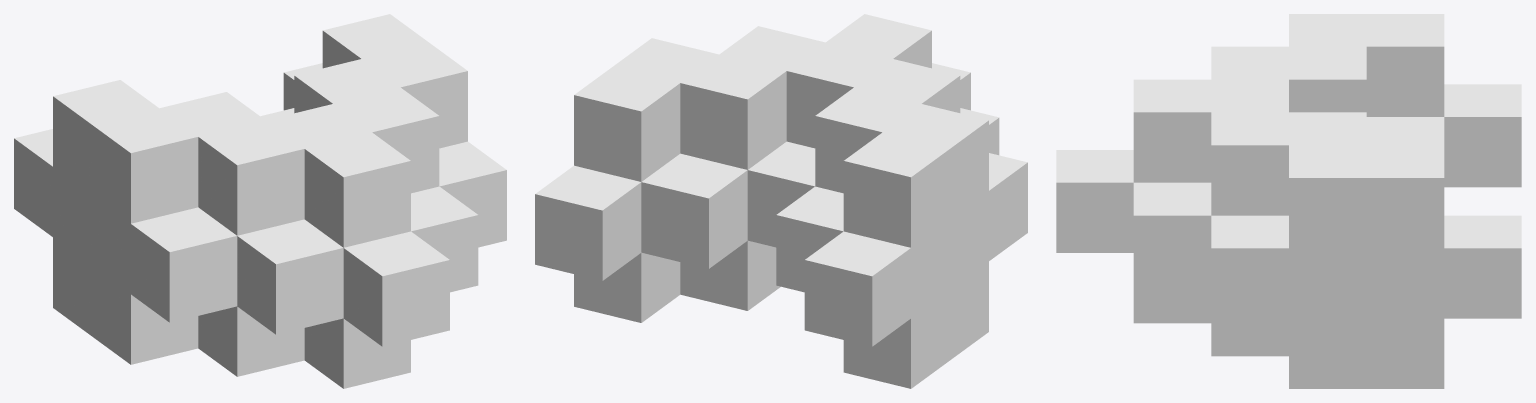
The model's file is ship.obj.
3 renders of one model, left to right at view 1: azimuth 30°, elevation 25°; view 2: azimuth 150°, elevation 25°; view 3: azimuth 270°, elevation 25°, orthographic.
Bounding box in the file's own units: 0.5 × 0.3 × 0.6.
Materials: 1 (1 with a texture image).
